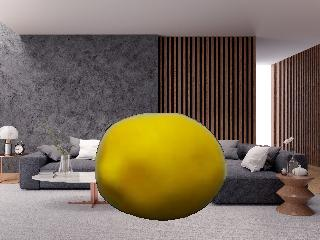lemon: (96, 114, 226, 220)
